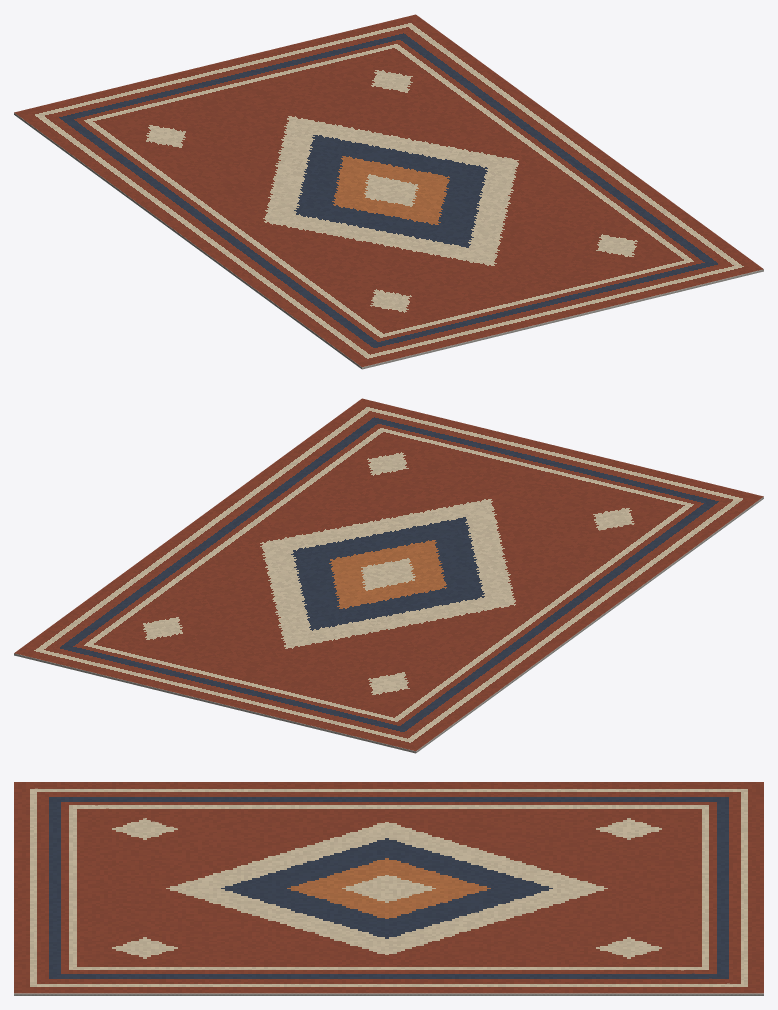
The model's file is rug_living.glb.
3 renders of one model, top to bottom at view 1: azimuth 30°, elevation 25°; view 2: azimuth 150°, elevation 25°; view 3: azimuth 270°, elevation 25°, orthographic. The views are drawn at different scales.
Parts seen in each view (by area): view 1: panels, body; view 2: panels, body; view 3: panels, body.
Part boxes in pixels (x1,y1,x2,y2): panels: (14,14,763,367); body: (14,113,763,369); panels: (14,398,763,751); body: (14,497,763,753); panels: (14,782,763,993); body: (14,993,763,995).
Size of the model in its own units: 1.6 by 0.0085 by 2.4.
2 materials, 2 textured.
